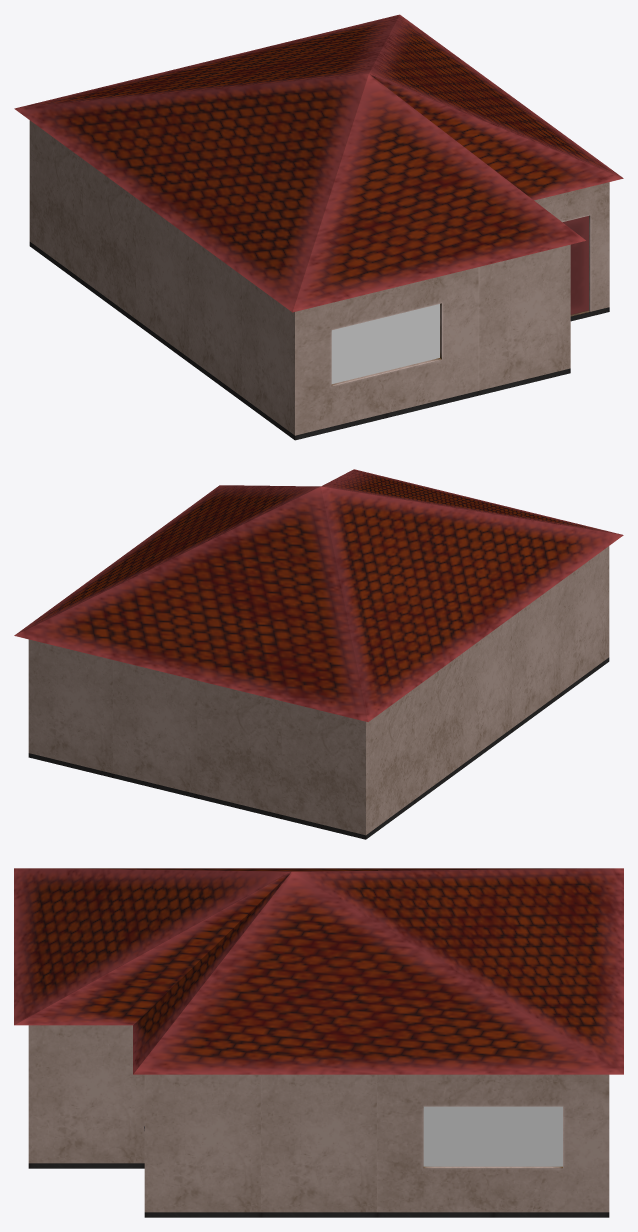
The model's file is House1.fbx.
3 renders of one model, top to bottom at view 1: azimuth 30°, elevation 25°; view 2: azimuth 150°, elevation 25°; view 3: azimuth 270°, elevation 25°, orthographic. The views are drawn at different scales.
Parts seen in each view (by area): view 1: Roof1, House1, Glass, Door1; view 2: Roof1, House1; view 3: Roof1, House1, Glass.
Boxes of the visible parts, x1,y1,x2,y2 form: Roof1: (14, 14, 623, 312); House1: (29, 120, 609, 440); Glass: (331, 304, 439, 383); Door1: (563, 216, 588, 314); Roof1: (14, 469, 623, 721); House1: (28, 546, 609, 839); Roof1: (14, 868, 623, 1074); House1: (28, 1025, 609, 1217); Glass: (423, 1106, 562, 1166).
Size of the model in its own units: 8.4 by 4.81 by 10.5.
